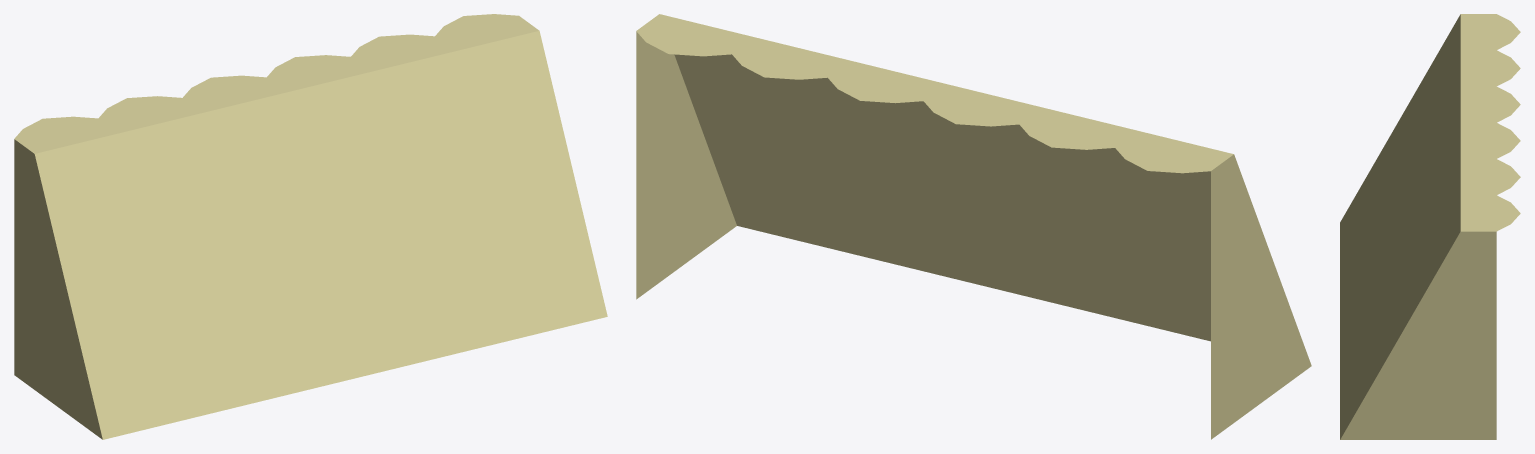
The model's file is keep-wd01_70.obj.
3 views of the same model, side by side, from view 1: azimuth 30°, elevation 25°; view 2: azimuth 150°, elevation 25°; view 3: azimuth 270°, elevation 25° (orthographic). The views are drawn at different scales.
Size of the model in its own units: 0.94 by 0.42 by 0.33.
Materials: 1 (1 with a texture image).
